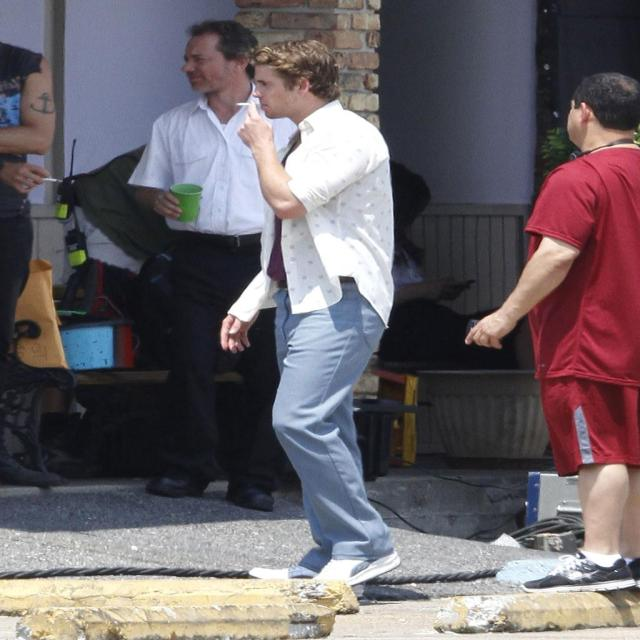smoking: (230, 40, 345, 153)
